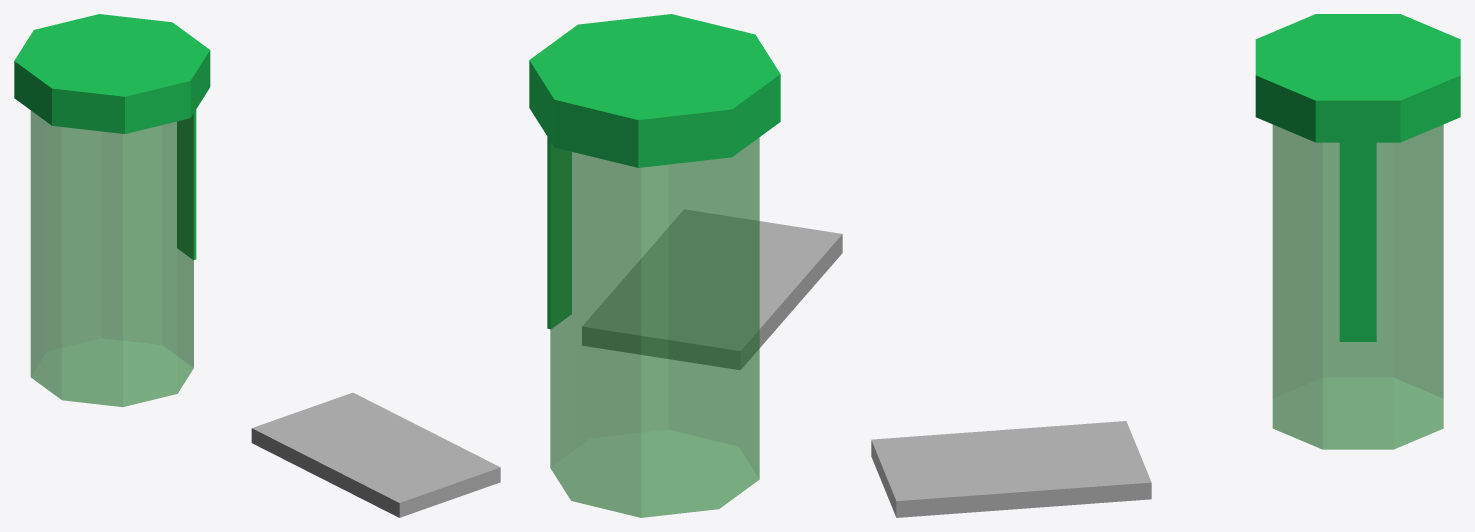
Rendered from stuff02.obj.
3 views of the same model, side by side, from view 1: azimuth 30°, elevation 25°; view 2: azimuth 150°, elevation 25°; view 3: azimuth 270°, elevation 25° (orthographic). The views are drawn at different scales.
Visible parts, largest first — view 1: Bottle_Cylinder.001, Cup_Cylinder.002, Note_Cube.002, Cube_Cube.003; view 2: Bottle_Cylinder.001, Cup_Cylinder.002, Note_Cube.002, Cube_Cube.003; view 3: Bottle_Cylinder.001, Cup_Cylinder.002, Note_Cube.002, Cube_Cube.003.
Boxes of the visible parts, x1,y1,x2,y2 form: Bottle_Cylinder.001: (30, 111, 193, 406); Cup_Cylinder.002: (14, 14, 210, 133); Note_Cube.002: (251, 392, 500, 517); Cube_Cube.003: (177, 110, 196, 259); Bottle_Cylinder.001: (550, 137, 759, 517); Cup_Cylinder.002: (529, 14, 780, 167); Note_Cube.002: (582, 209, 842, 369); Cube_Cube.003: (547, 137, 571, 329); Bottle_Cylinder.001: (1272, 124, 1443, 449); Cup_Cylinder.002: (1255, 14, 1460, 142); Note_Cube.002: (871, 421, 1151, 517); Cube_Cube.003: (1339, 142, 1376, 341).
Bounding box in the file's own units: 0.3672 × 0.43 × 0.6373.
